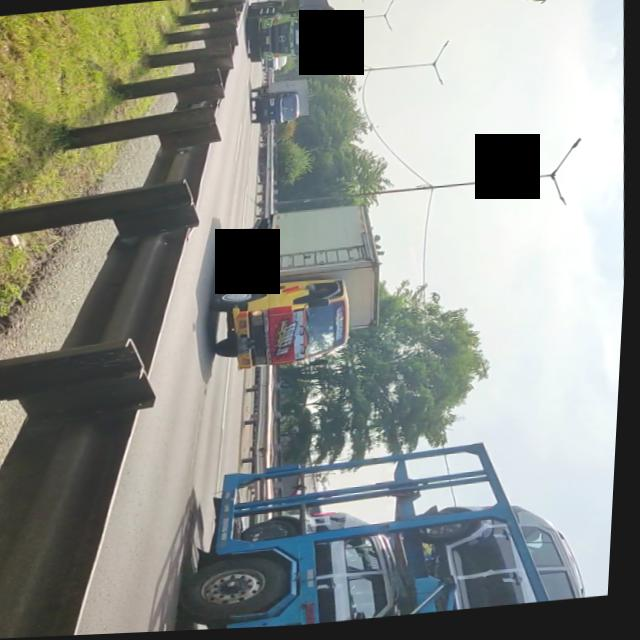Golongan II: (198, 204, 395, 384)
